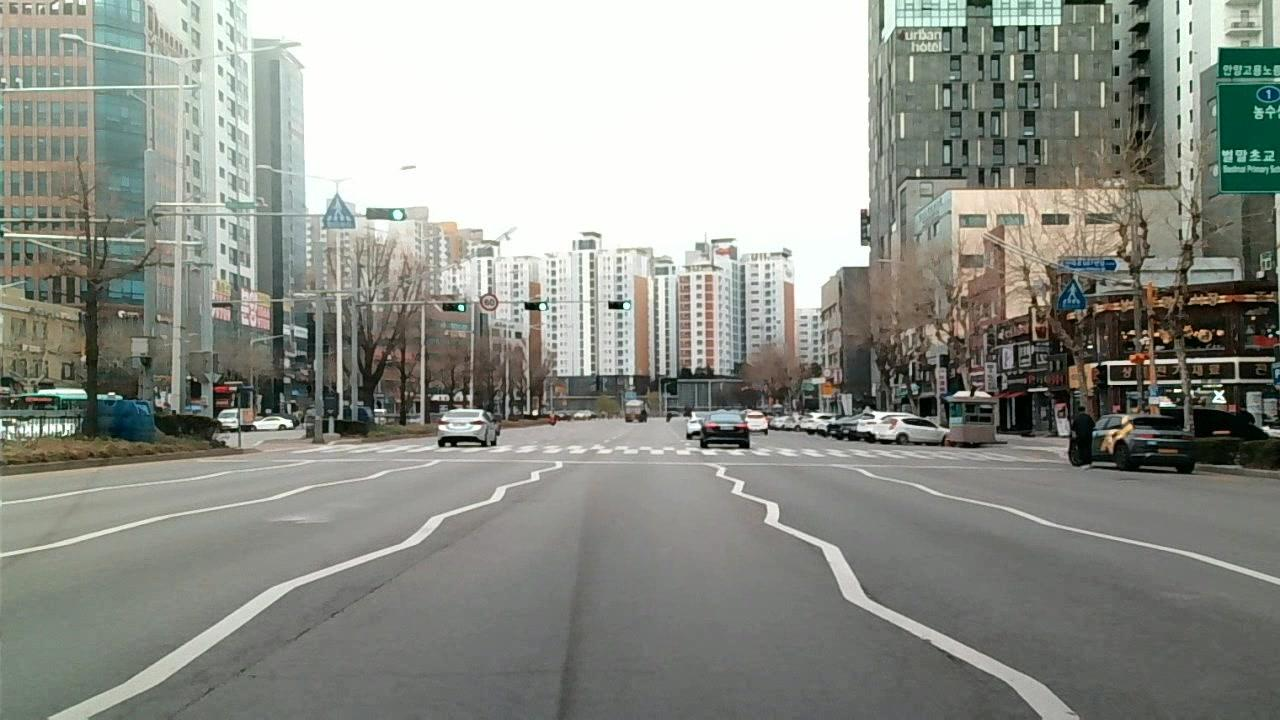hcrack: (363, 664, 572, 680)
vcrack: (262, 579, 385, 660), (145, 660, 258, 720), (388, 535, 467, 580)
